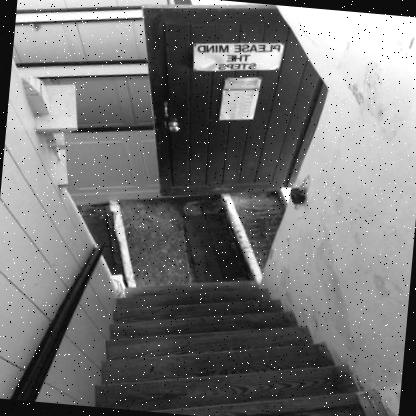stair: (77, 246, 395, 416)
